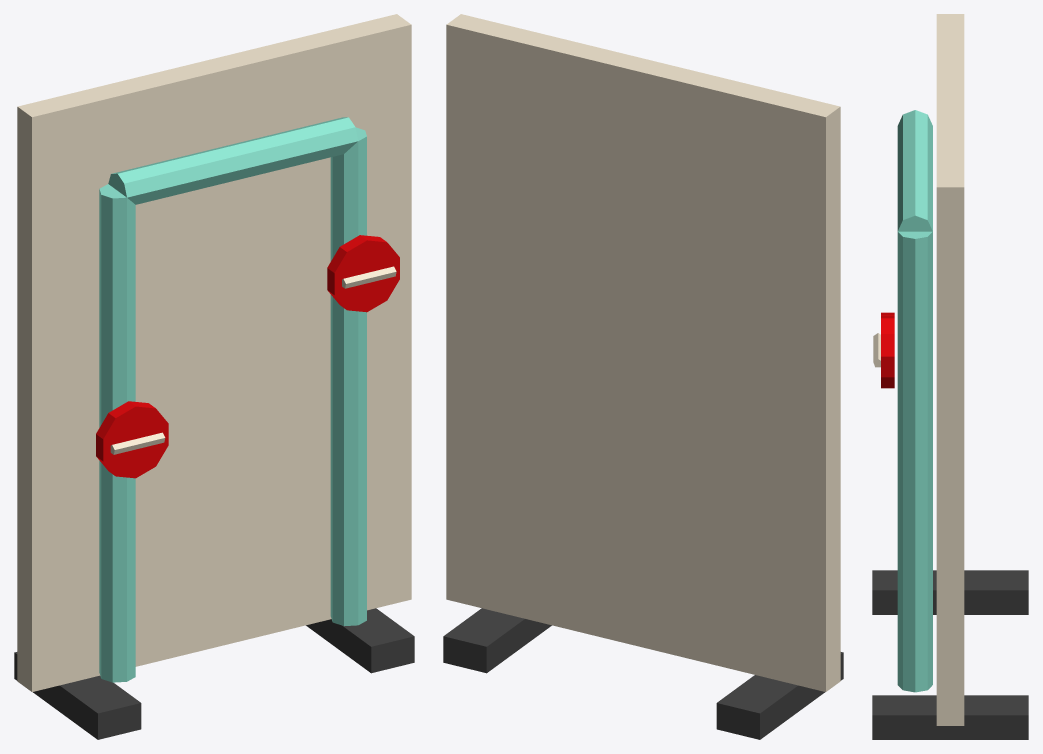
The picture shows the model from 3 angles, left to right: view 1: azimuth 30°, elevation 25°; view 2: azimuth 150°, elevation 25°; view 3: azimuth 270°, elevation 25°; orthographic projection. The views are drawn at different scales.
Parts seen in each view (by area): view 1: Panel, Upright pipe, Upright pipe.001, Pipe connector, Panel foot, Valve face.001, Panel foot.001, Valve face; view 2: Panel, Panel foot, Panel foot.001; view 3: Panel, Upright pipe.001, Panel foot.001, Panel foot, Pipe connector, Valve face.001.
Boxes of the visible parts, x1=… form: Panel: x1=17, y1=14, x2=411, y2=691; Upright pipe: x1=99, y1=184, x2=135, y2=682; Upright pipe.001: x1=330, y1=127, x2=366, y2=626; Pipe connector: x1=108, y1=117, x2=358, y2=204; Panel foot: x1=14, y1=652, x2=141, y2=739; Valve face.001: x1=327, y1=235, x2=399, y2=312; Panel foot.001: x1=306, y1=608, x2=414, y2=673; Valve face: x1=96, y1=401, x2=168, y2=478; Panel: x1=446, y1=14, x2=840, y2=691; Panel foot: x1=716, y1=652, x2=843, y2=739; Panel foot.001: x1=443, y1=608, x2=551, y2=673; Panel: x1=936, y1=14, x2=964, y2=725; Upright pipe.001: x1=897, y1=231, x2=932, y2=692; Panel foot.001: x1=872, y1=695, x2=1028, y2=739; Panel foot: x1=872, y1=570, x2=1028, y2=614; Pipe connector: x1=897, y1=110, x2=932, y2=231; Valve face.001: x1=881, y1=315, x2=894, y2=388.
Size of the model in its own units: 1.05 by 1.6 by 0.4.
Materials: 1 (1 with a texture image).
